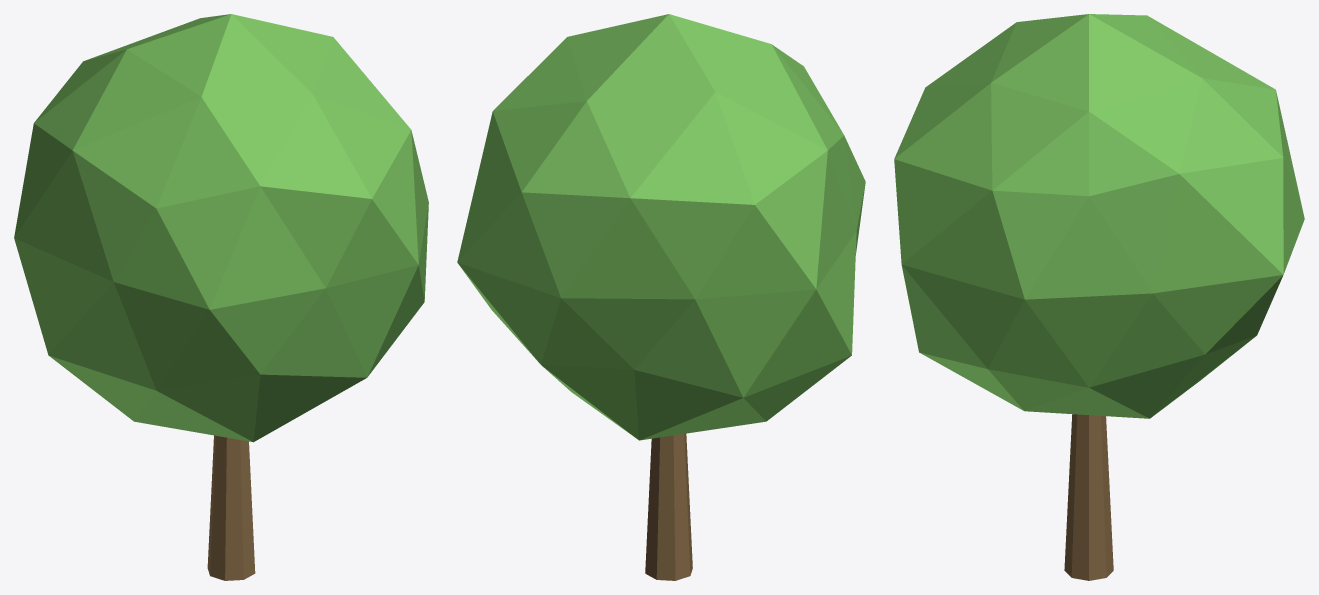
Rendered from oak_tree_3.glb.
3 views of the same model, side by side, from view 1: azimuth 30°, elevation 25°; view 2: azimuth 150°, elevation 25°; view 3: azimuth 270°, elevation 25° (orthographic).
Visible parts, largest first — view 1: oak_tree_3_canopy, oak_tree_3_trunk; view 2: oak_tree_3_canopy, oak_tree_3_trunk; view 3: oak_tree_3_canopy, oak_tree_3_trunk.
Boxes of the visible parts, x1=… form: oak_tree_3_canopy: x1=14, y1=14, x2=428, y2=442; oak_tree_3_trunk: x1=207, y1=435, x2=255, y2=580; oak_tree_3_canopy: x1=457, y1=14, x2=865, y2=440; oak_tree_3_trunk: x1=645, y1=433, x2=692, y2=580; oak_tree_3_canopy: x1=894, y1=14, x2=1304, y2=418; oak_tree_3_trunk: x1=1064, y1=414, x2=1113, y2=580.
Size of the model in its own units: 3.81 by 5.83 by 3.9.
